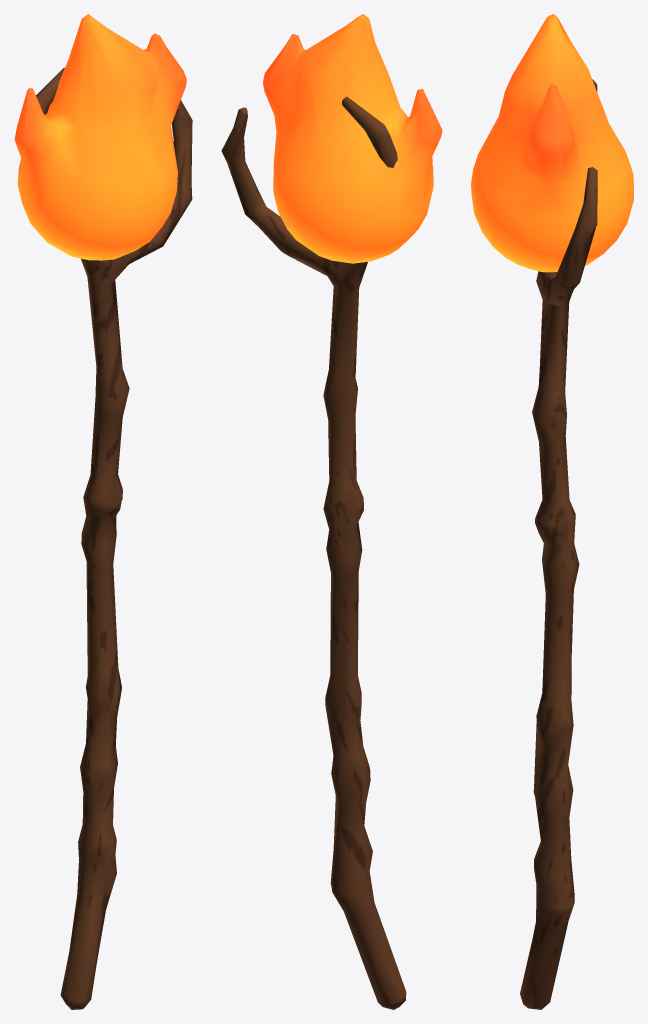
File: wizard-staff.glb
3 views of the same model, side by side, from view 1: azimuth 30°, elevation 25°; view 2: azimuth 150°, elevation 25°; view 3: azimuth 270°, elevation 25° (orthographic). The views are drawn at different scales.
Visible parts, largest first — view 1: fire, staff; view 2: fire, staff; view 3: fire, staff.
Boxes of the visible parts, <box> form: fire: <box>14,14,186,260</box>; staff: <box>36,67,192,1009</box>; fire: <box>263,14,442,263</box>; staff: <box>221,96,406,1009</box>; fire: <box>471,14,633,272</box>; staff: <box>520,79,597,1009</box>.
Size of the model in its own units: 0.2251 by 1.09 by 0.1604.
2 materials, 2 textured.
